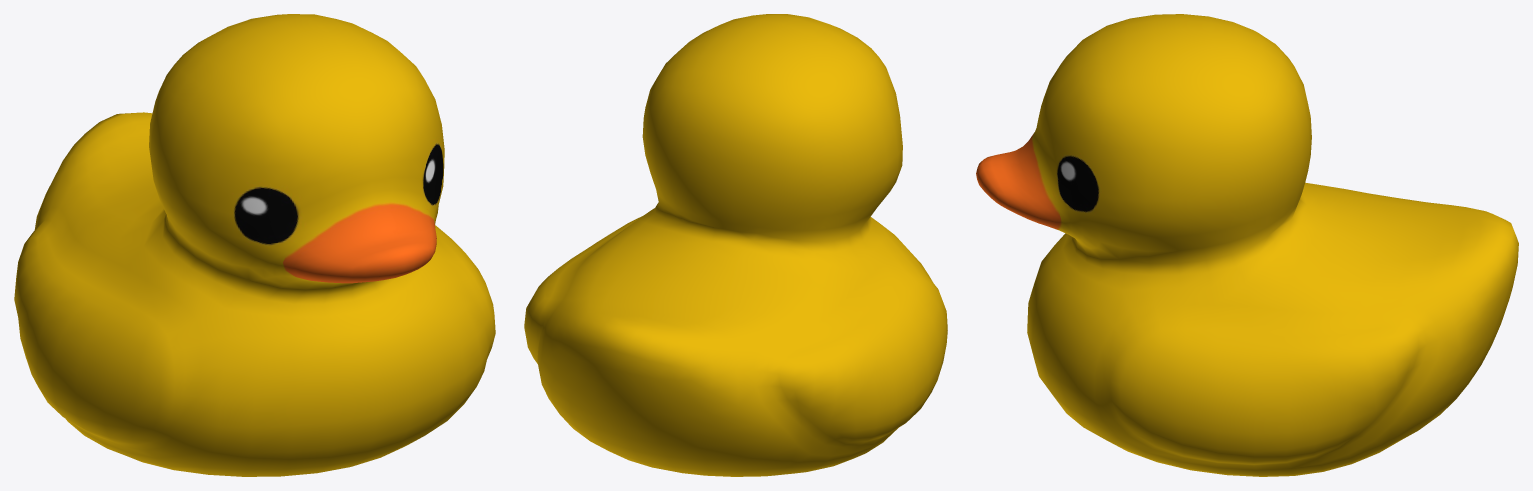
Rendered from pato.fbx.
3 views of the same model, side by side, from view 1: azimuth 30°, elevation 25°; view 2: azimuth 150°, elevation 25°; view 3: azimuth 270°, elevation 25° (orthographic). The views are drawn at different scales.
Visible parts, largest first — view 1: duck; view 2: duck; view 3: duck.
Boxes of the visible parts, x1=… form: duck: x1=14, y1=14, x2=495, y2=476; duck: x1=524, y1=14, x2=947, y2=476; duck: x1=976, y1=14, x2=1518, y2=476.
Size of the model in its own units: 1.25 by 1.21 by 1.55.
Materials: 2 (1 with a texture image).
